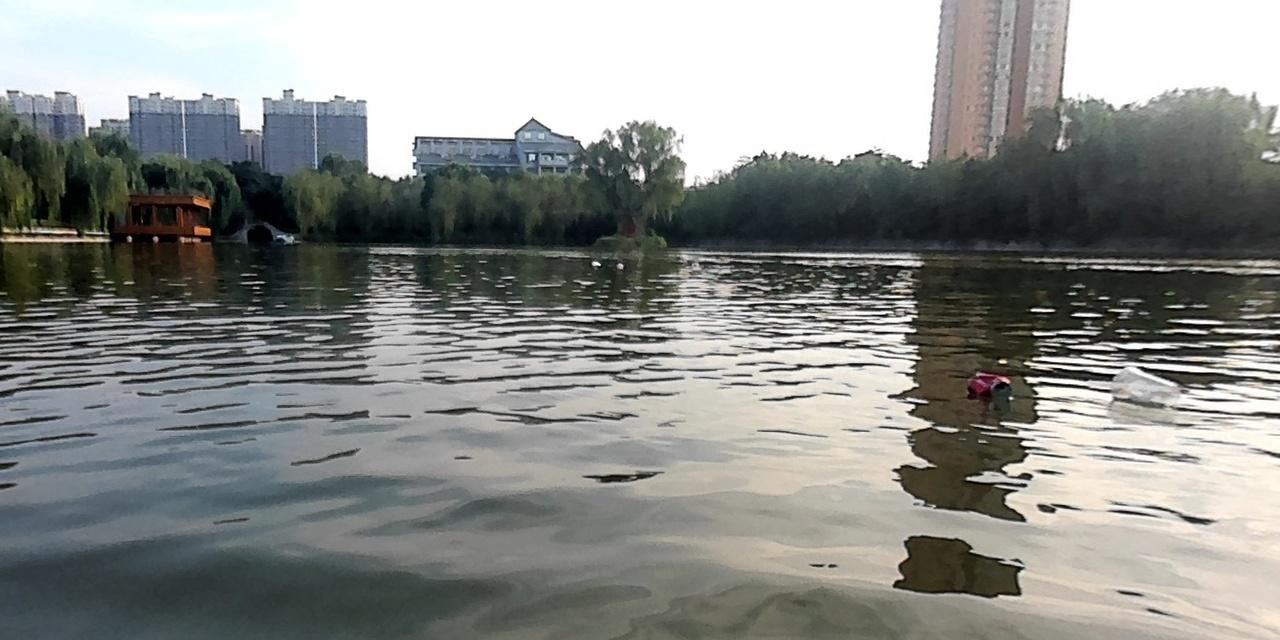bottle: (1103, 363, 1180, 408), (966, 370, 1009, 400)
